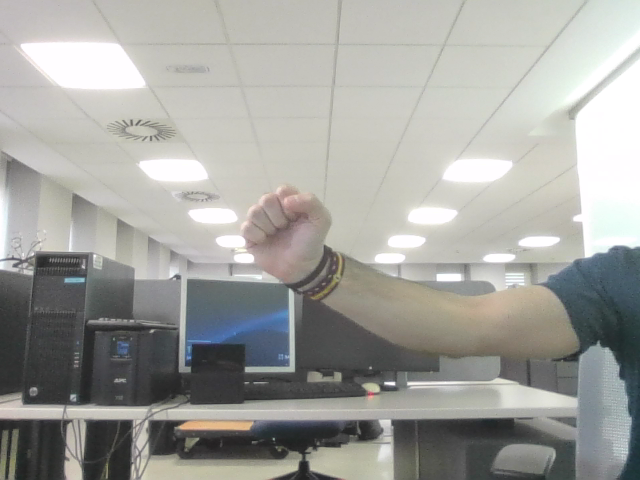Puño: (248, 194, 316, 244)
